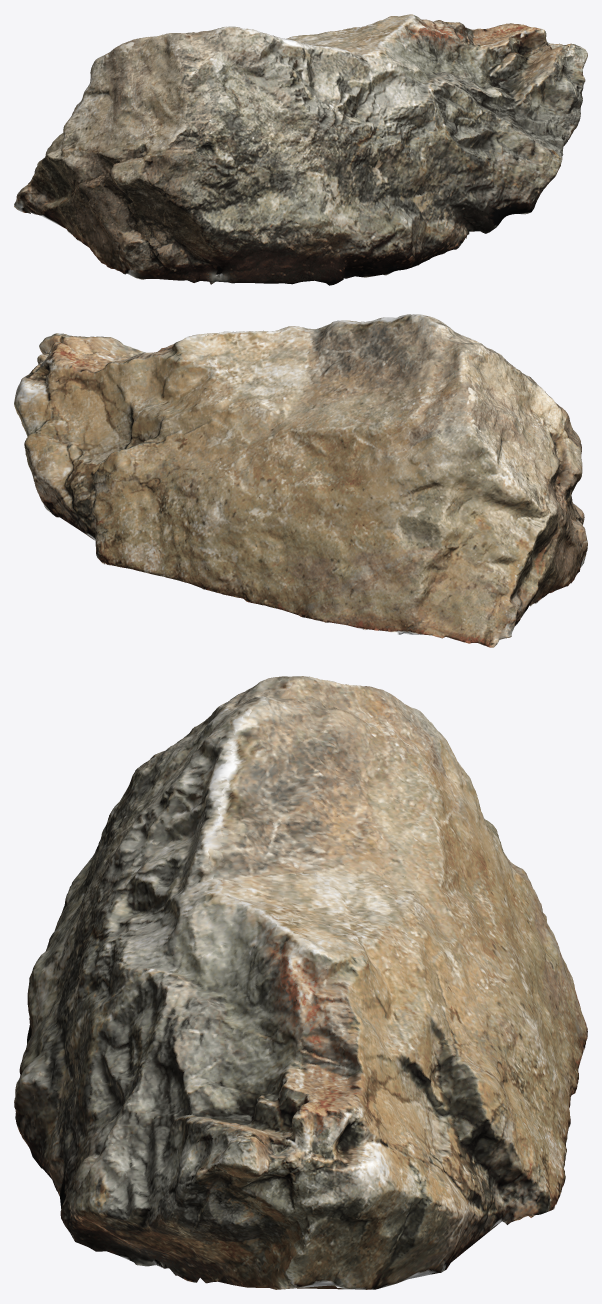
File: sparse1.glb
3 views of the same model, one above another, from view 1: azimuth 30°, elevation 25°; view 2: azimuth 150°, elevation 25°; view 3: azimuth 270°, elevation 25° (orthographic). The views are drawn at different scales.
Visible parts, largest first — view 1: Node; view 2: Node; view 3: Node.
Boxes of the visible parts, left/top/right/bottom form: Node: left=14, top=14, right=587, bottom=285; Node: left=14, top=314, right=587, bottom=647; Node: left=14, top=676, right=587, bottom=1289.
Bounding box in the file's own units: 4.46 × 1.89 × 2.68.
Materials: 1 (1 with a texture image).
